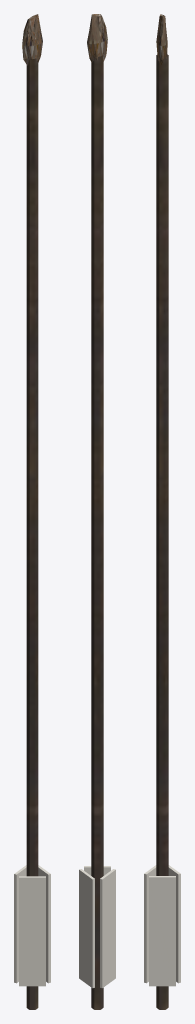
Rendered from arrow.glb.
The picture shows the model from 3 angles, left to right: view 1: azimuth 30°, elevation 25°; view 2: azimuth 210°, elevation 25°; view 3: azimuth 270°, elevation 25°; orthographic projection.
Parts seen in each view (by area): view 1: shaft, fletch2, tip, fletch0, fletch1; view 2: shaft, fletch0, fletch1, tip; view 3: shaft, fletch0, fletch1, fletch2, tip.
Boxes of the visible parts, x1,y1,x2,y2 form: shaft: (26,58,38,1009); fletch2: (19,876,45,986); tip: (22,14,42,65); fletch0: (38,865,50,983); fletch1: (14,865,26,983); shaft: (91,55,103,1009); fletch0: (79,869,94,988); fletch1: (100,869,115,988); tip: (87,14,107,63); shaft: (156,54,168,1009); fletch0: (149,876,175,986); fletch1: (168,865,180,983); fletch2: (144,865,156,983); tip: (156,14,167,65).
Bounding box in the file's own units: 0.0213 × 0.7306 × 0.0246.
5 materials, 2 textured.
